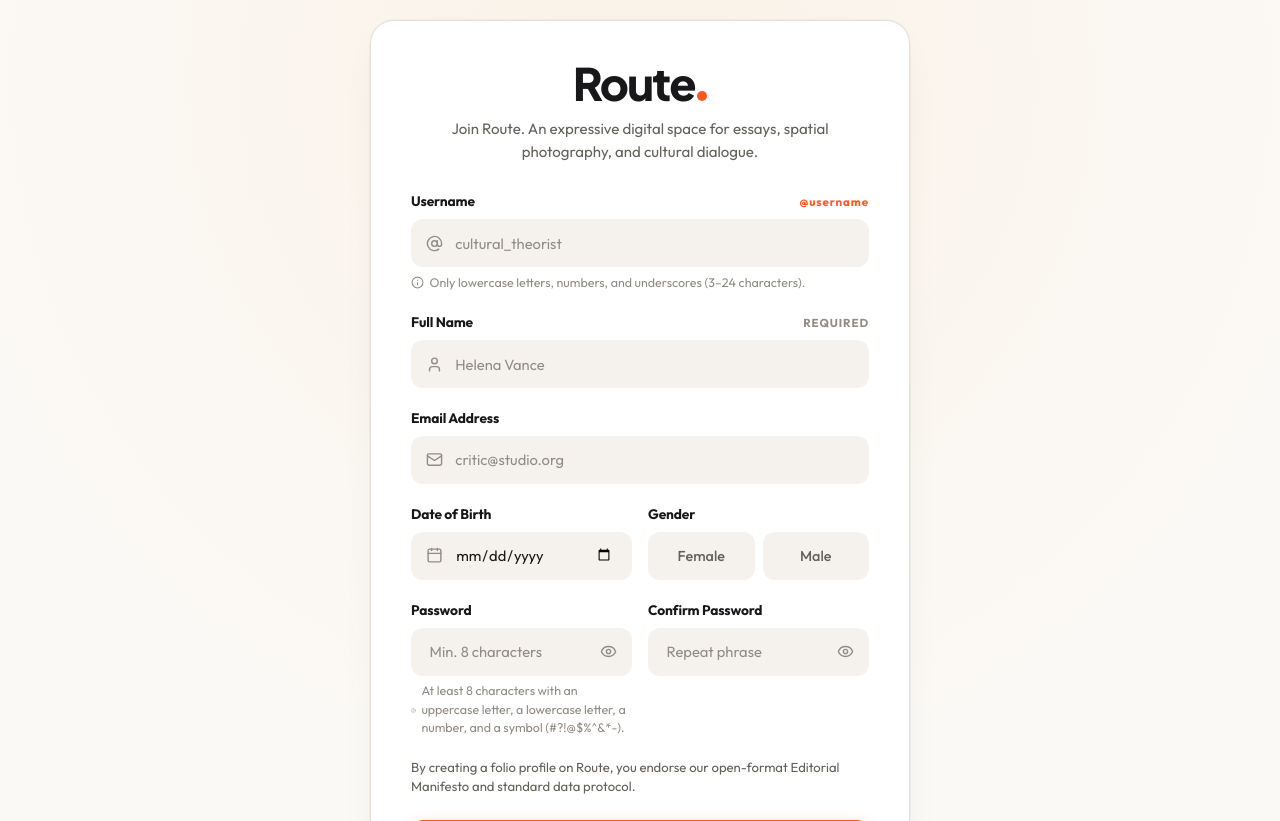
SignUp explicit choices › rejects submission when date of birth and gender were never chosen
This screenshot has width=1280, height=821.
Type "nada_dev" into the field labelled "Username" at point(640, 243), box [411,219,869,267]
Type "Nada Nashaat" into the field labelled "Full Name" at point(640, 364), box [411,340,869,388]
Type "nada@example.com" into the field labelled "Email Address" at point(640, 460), box [411,436,869,484]
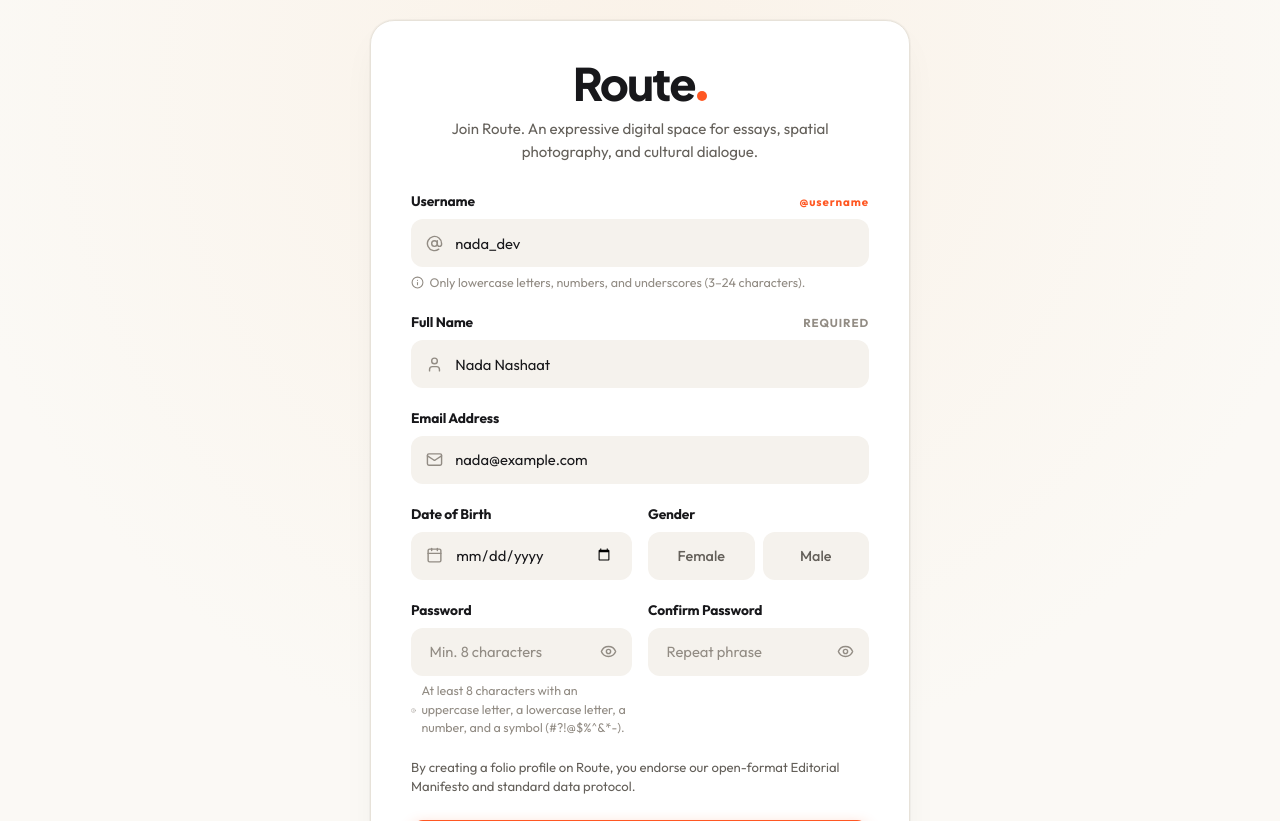
Type "Secret1!" into the password field labelled "Password" at point(522, 652), box [411,628,632,676]
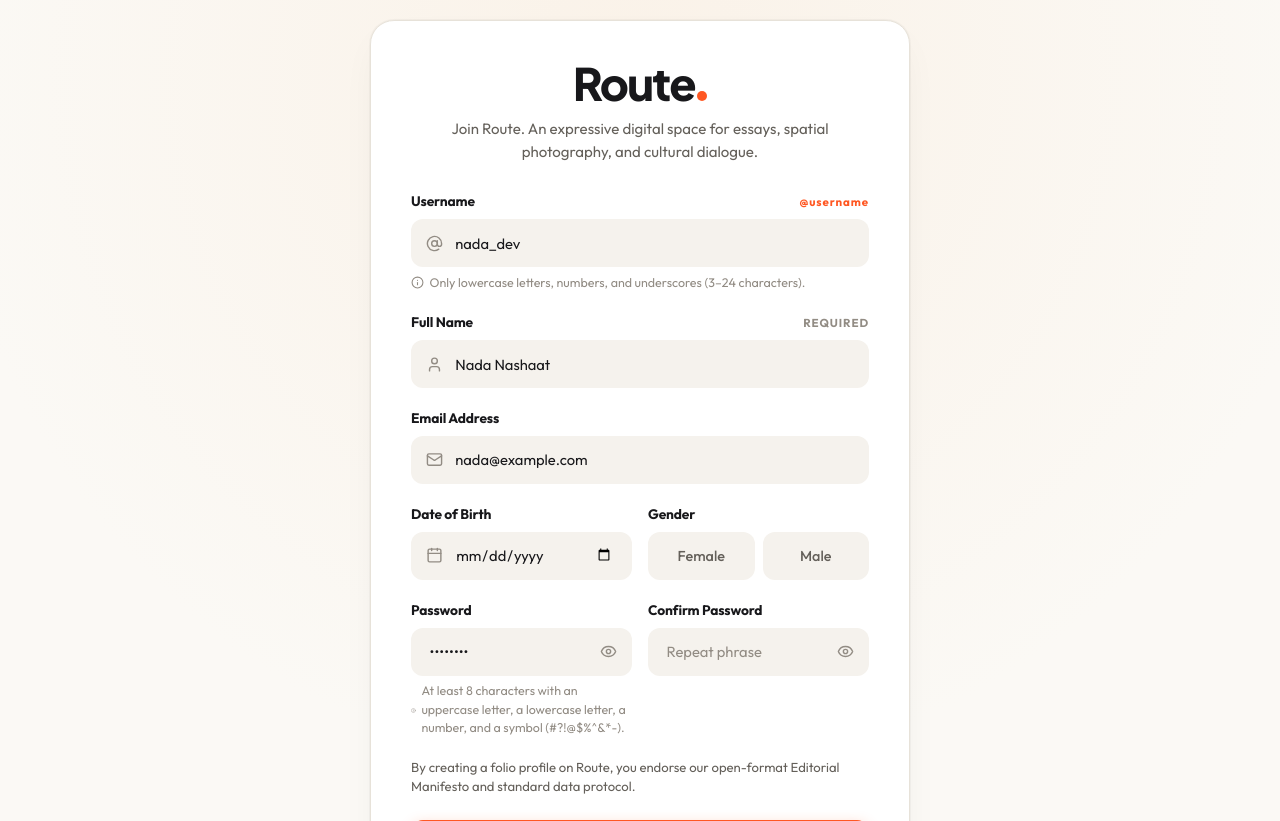
Type "Secret1!" into the password field labelled "Confirm Password" at point(758, 652), box [648,628,869,676]
(page scrolled)
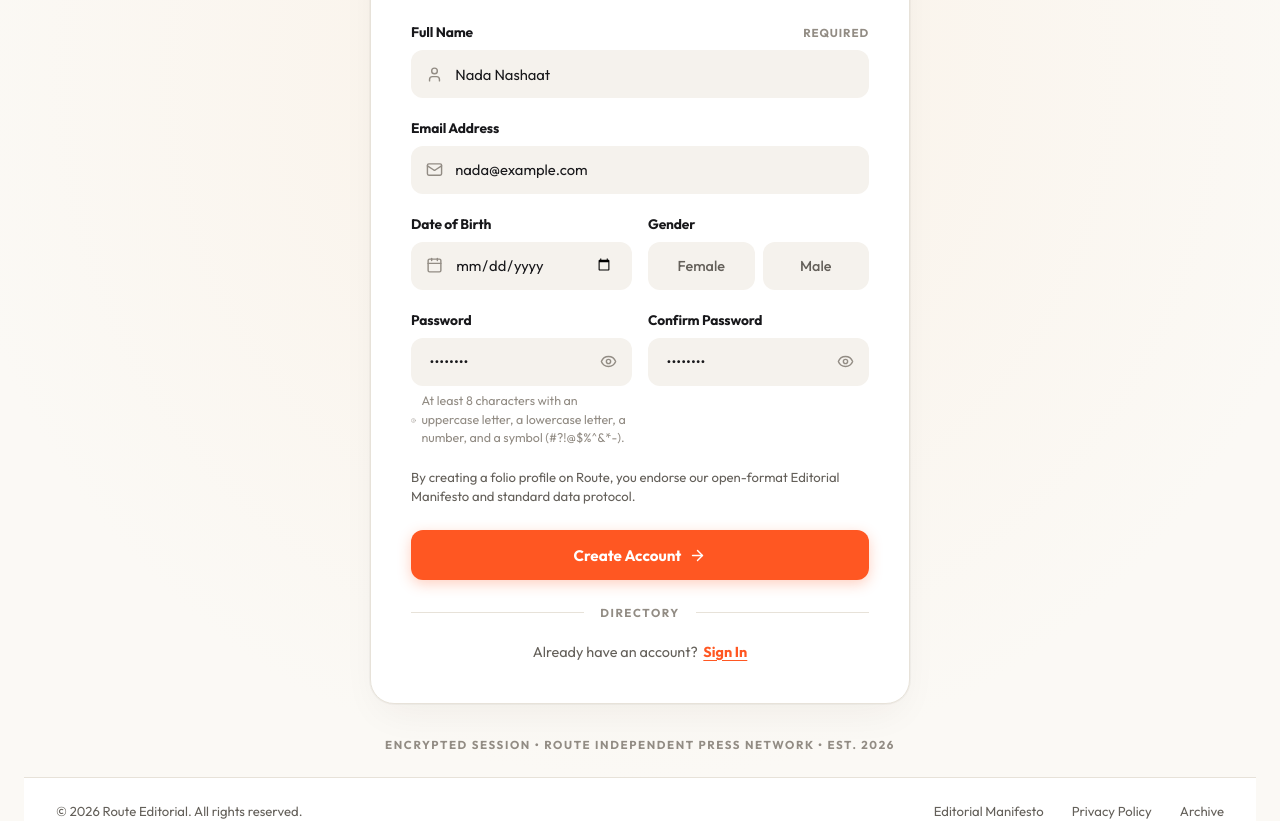
Click the button "Create Account" at point(640, 555), box [411,530,869,580]
(page scrolled)
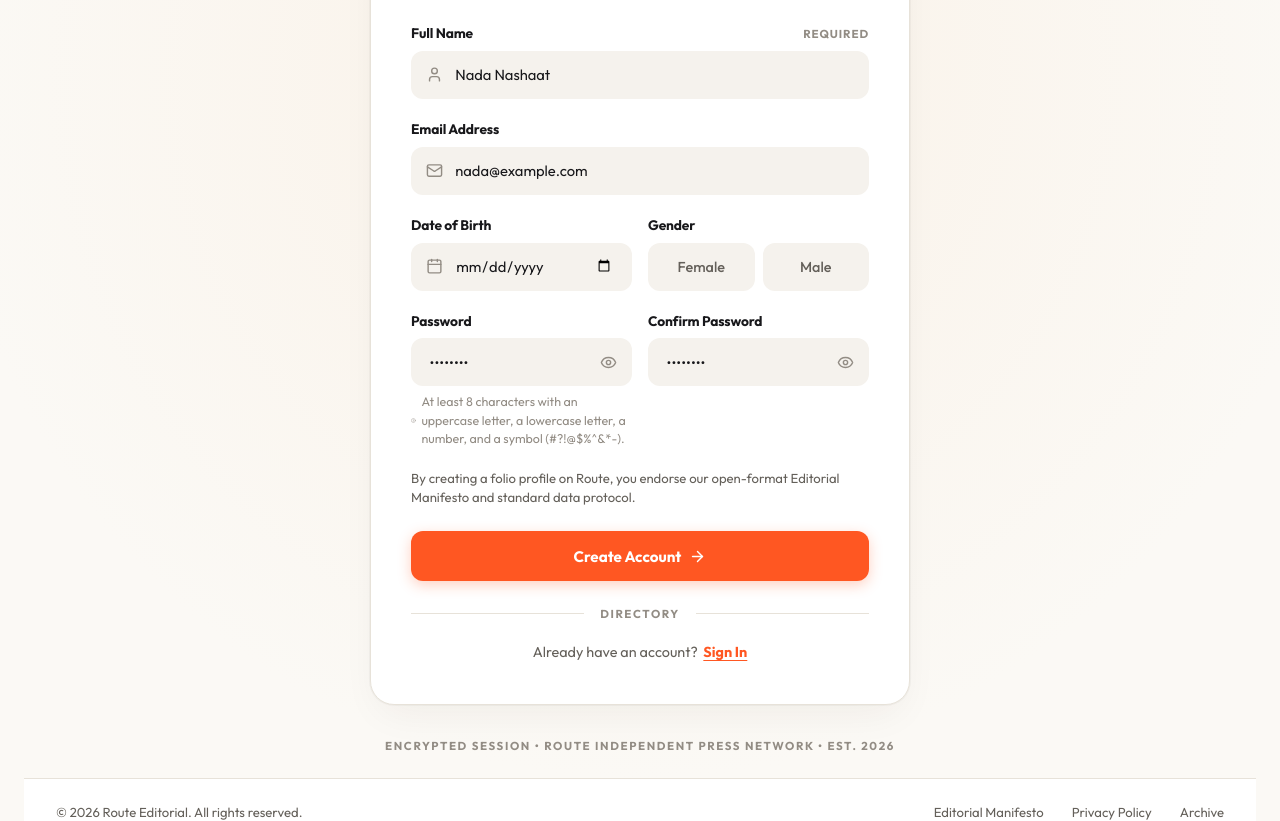
Type "2003-06-15" into the date field labelled "Date of Birth" at point(522, 267), box [411,243,632,291]
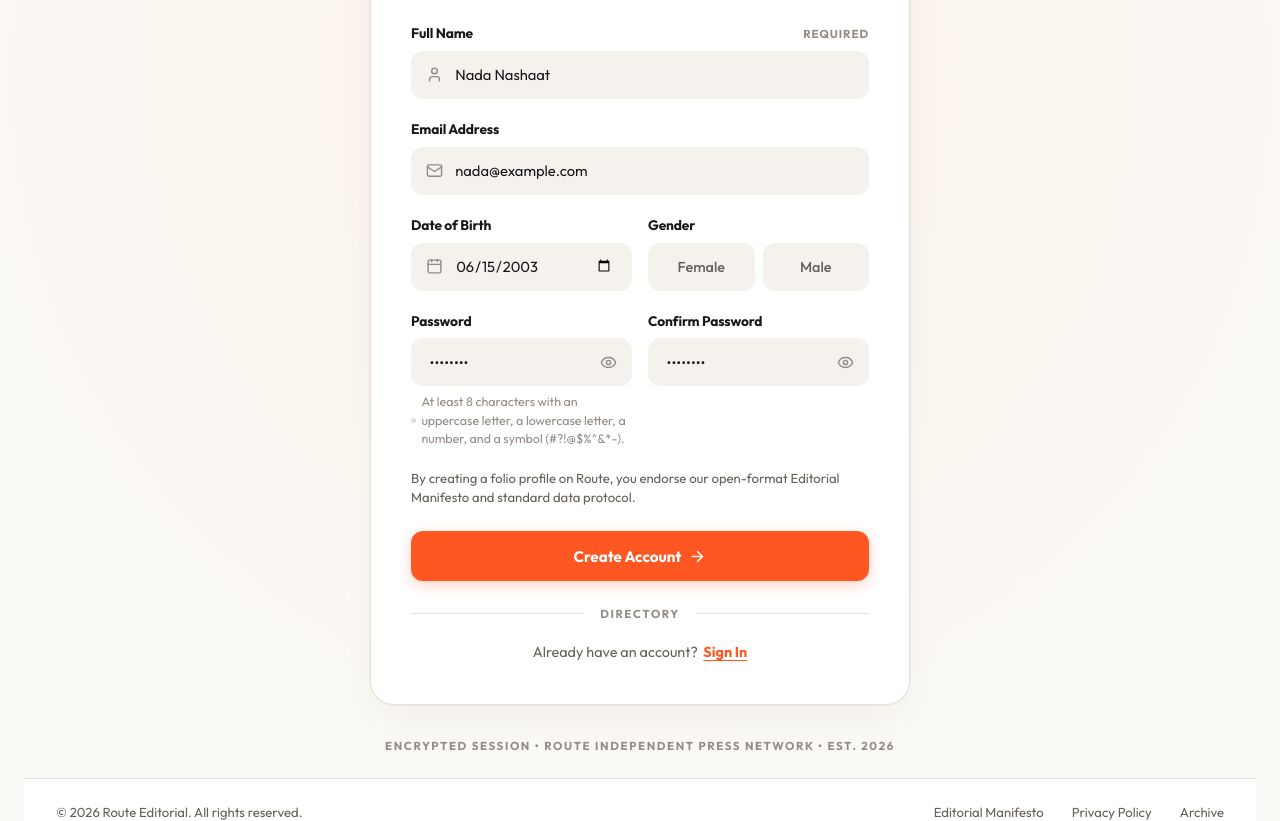
Click the button "Create Account" at point(640, 556), box [411,531,869,581]
(page scrolled)
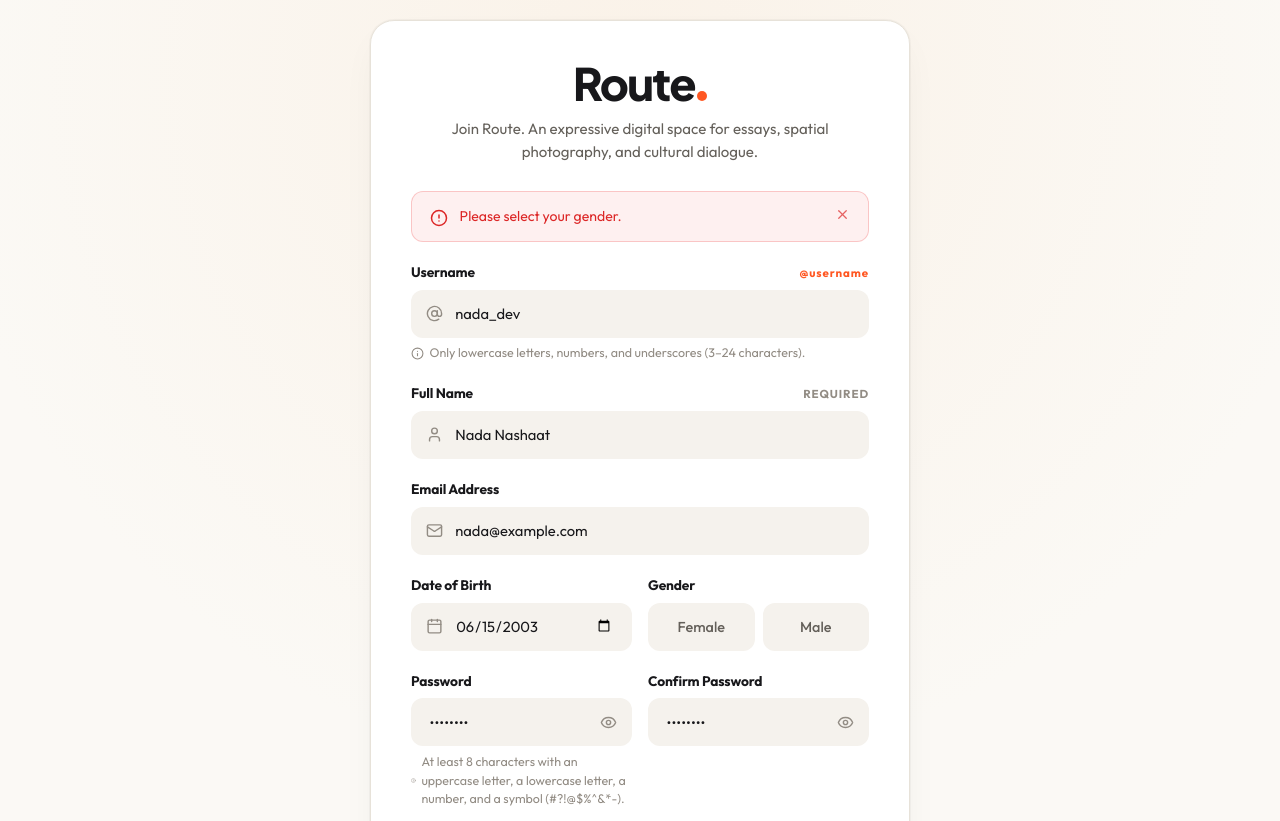
Check: the text "Please select your gender." is shown, box [460,207,622,226]
